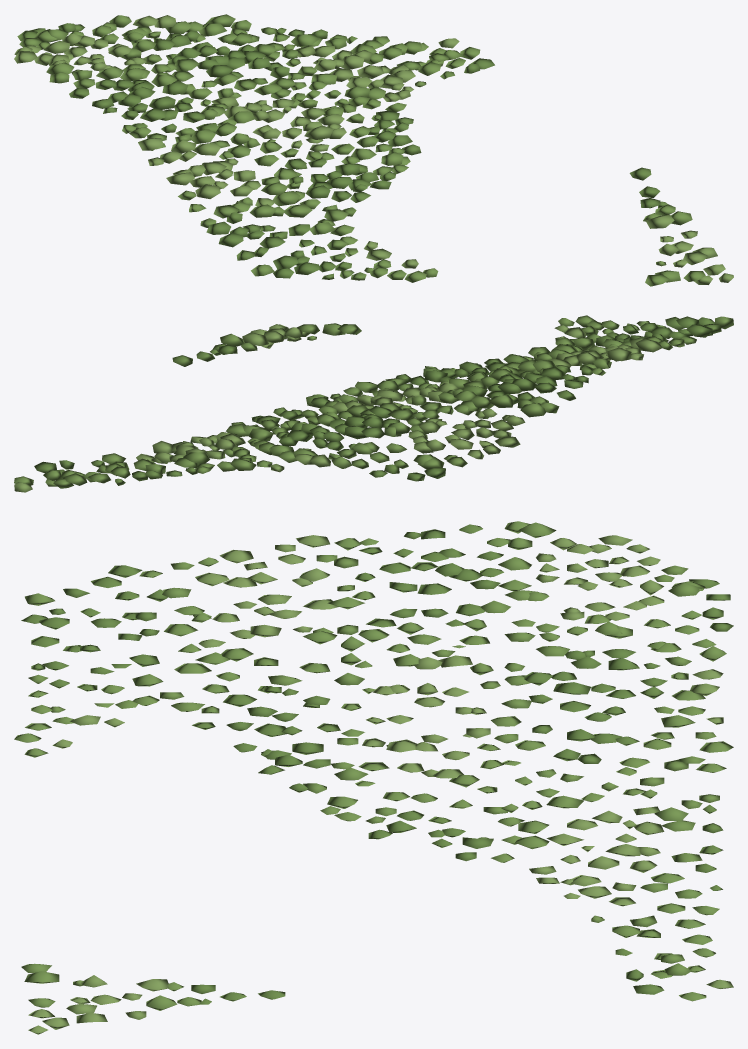
The model's file is canopy-1-3--4.glb.
3 views of the same model, one above another, from view 1: azimuth 30°, elevation 25°; view 2: azimuth 150°, elevation 25°; view 3: azimuth 270°, elevation 25° (orthographic). The views are drawn at different scales.
Bounding box in the file's own units: 518 × 182 × 518.
1 material, 1 textured.
